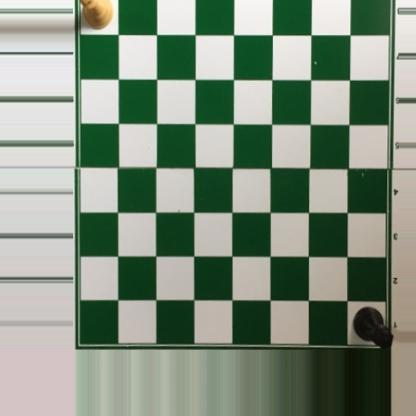black-queen: (354, 307, 395, 351)
white-queen: (75, 0, 114, 30)
